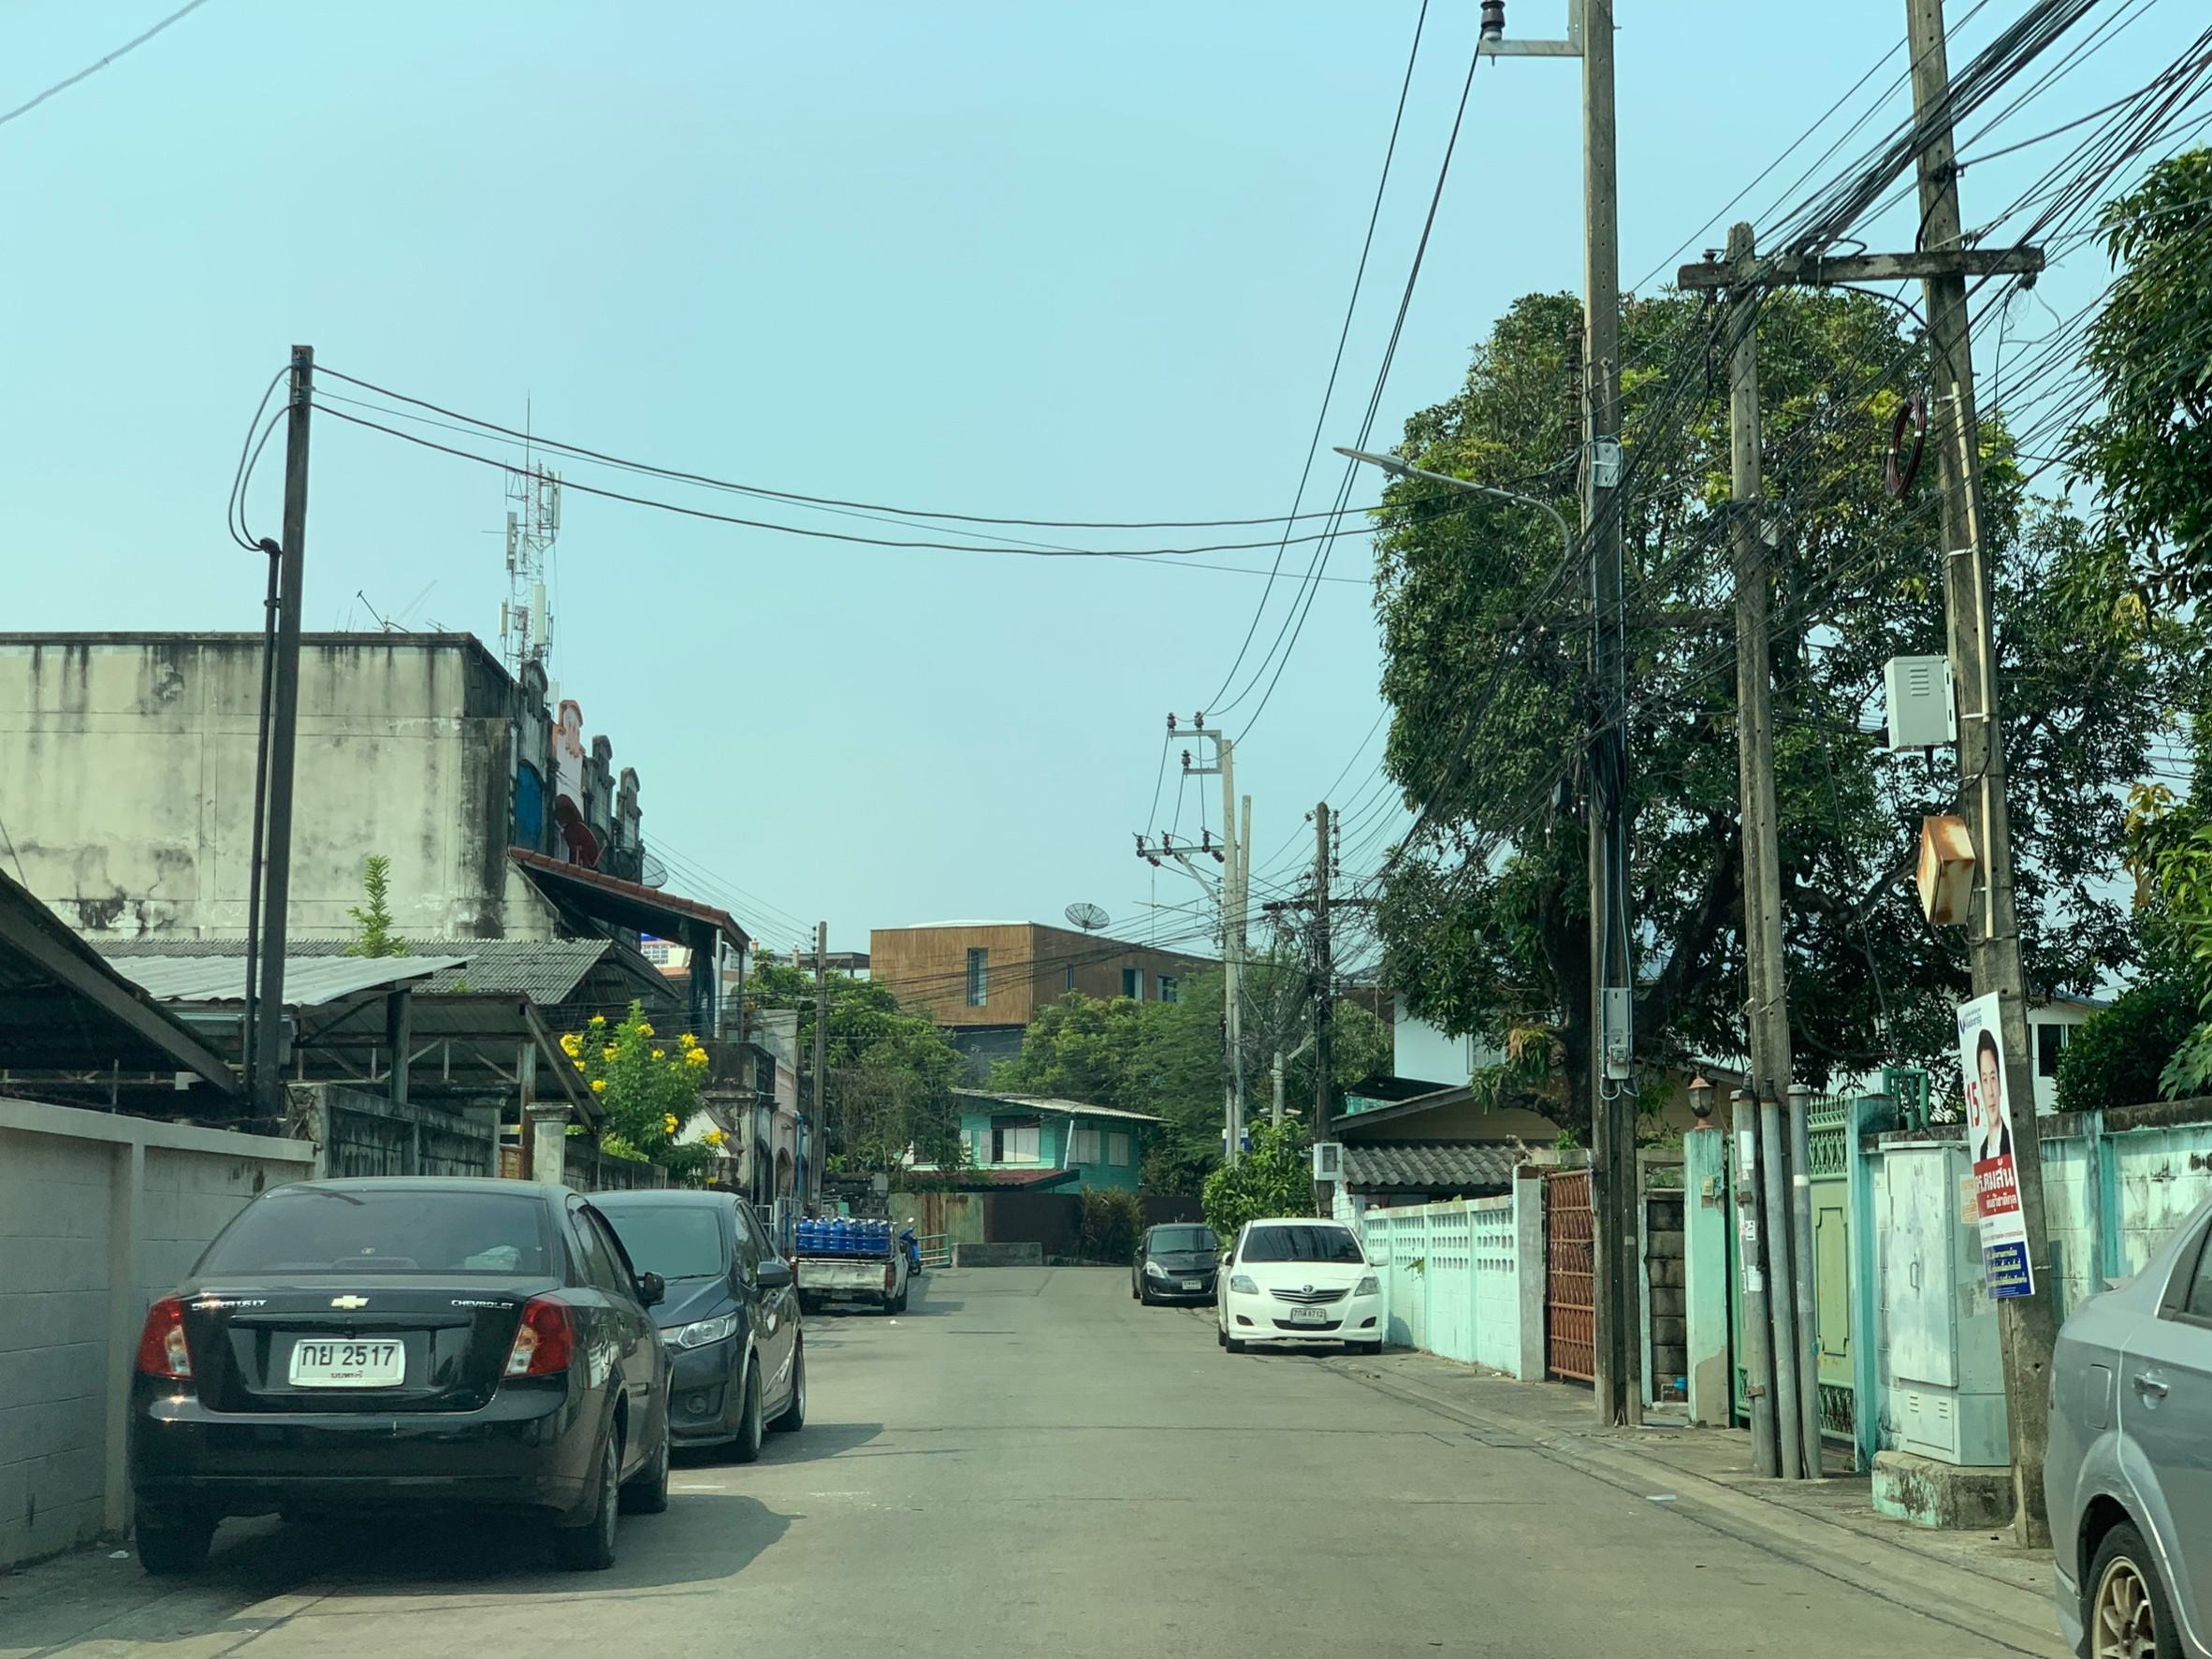Banner: (1942, 979, 2038, 1326)
